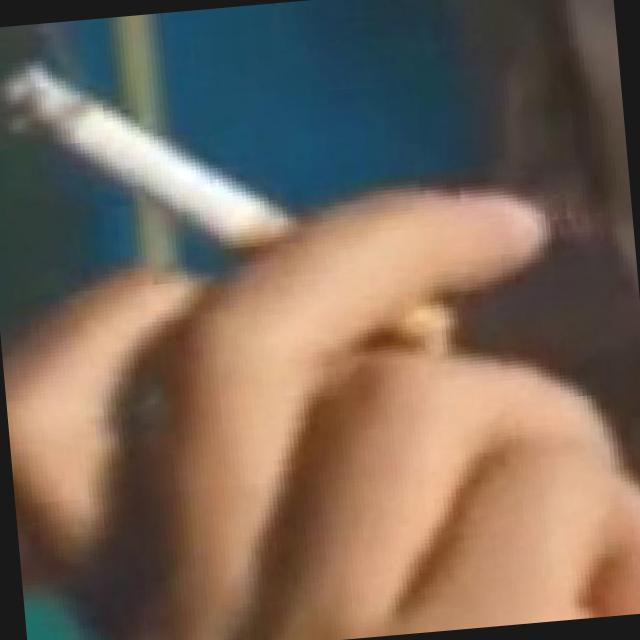smoke: (0, 28, 293, 264)
